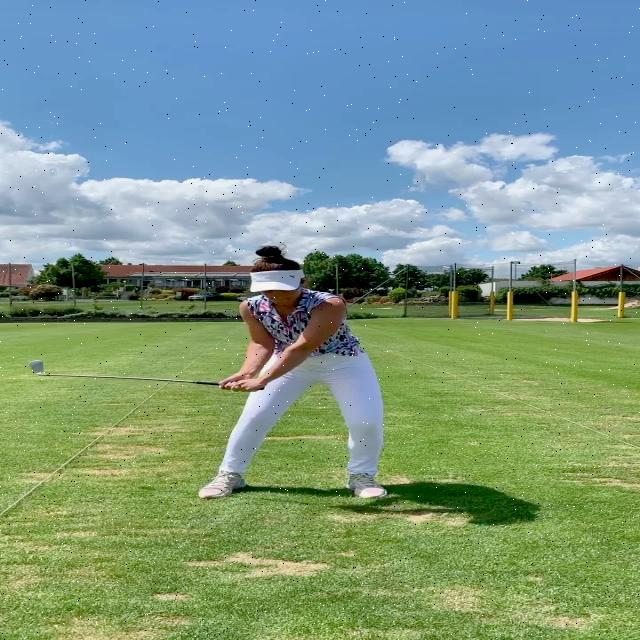ClubHandle: (28, 360, 266, 390)
ClubHead: (30, 359, 49, 376)
